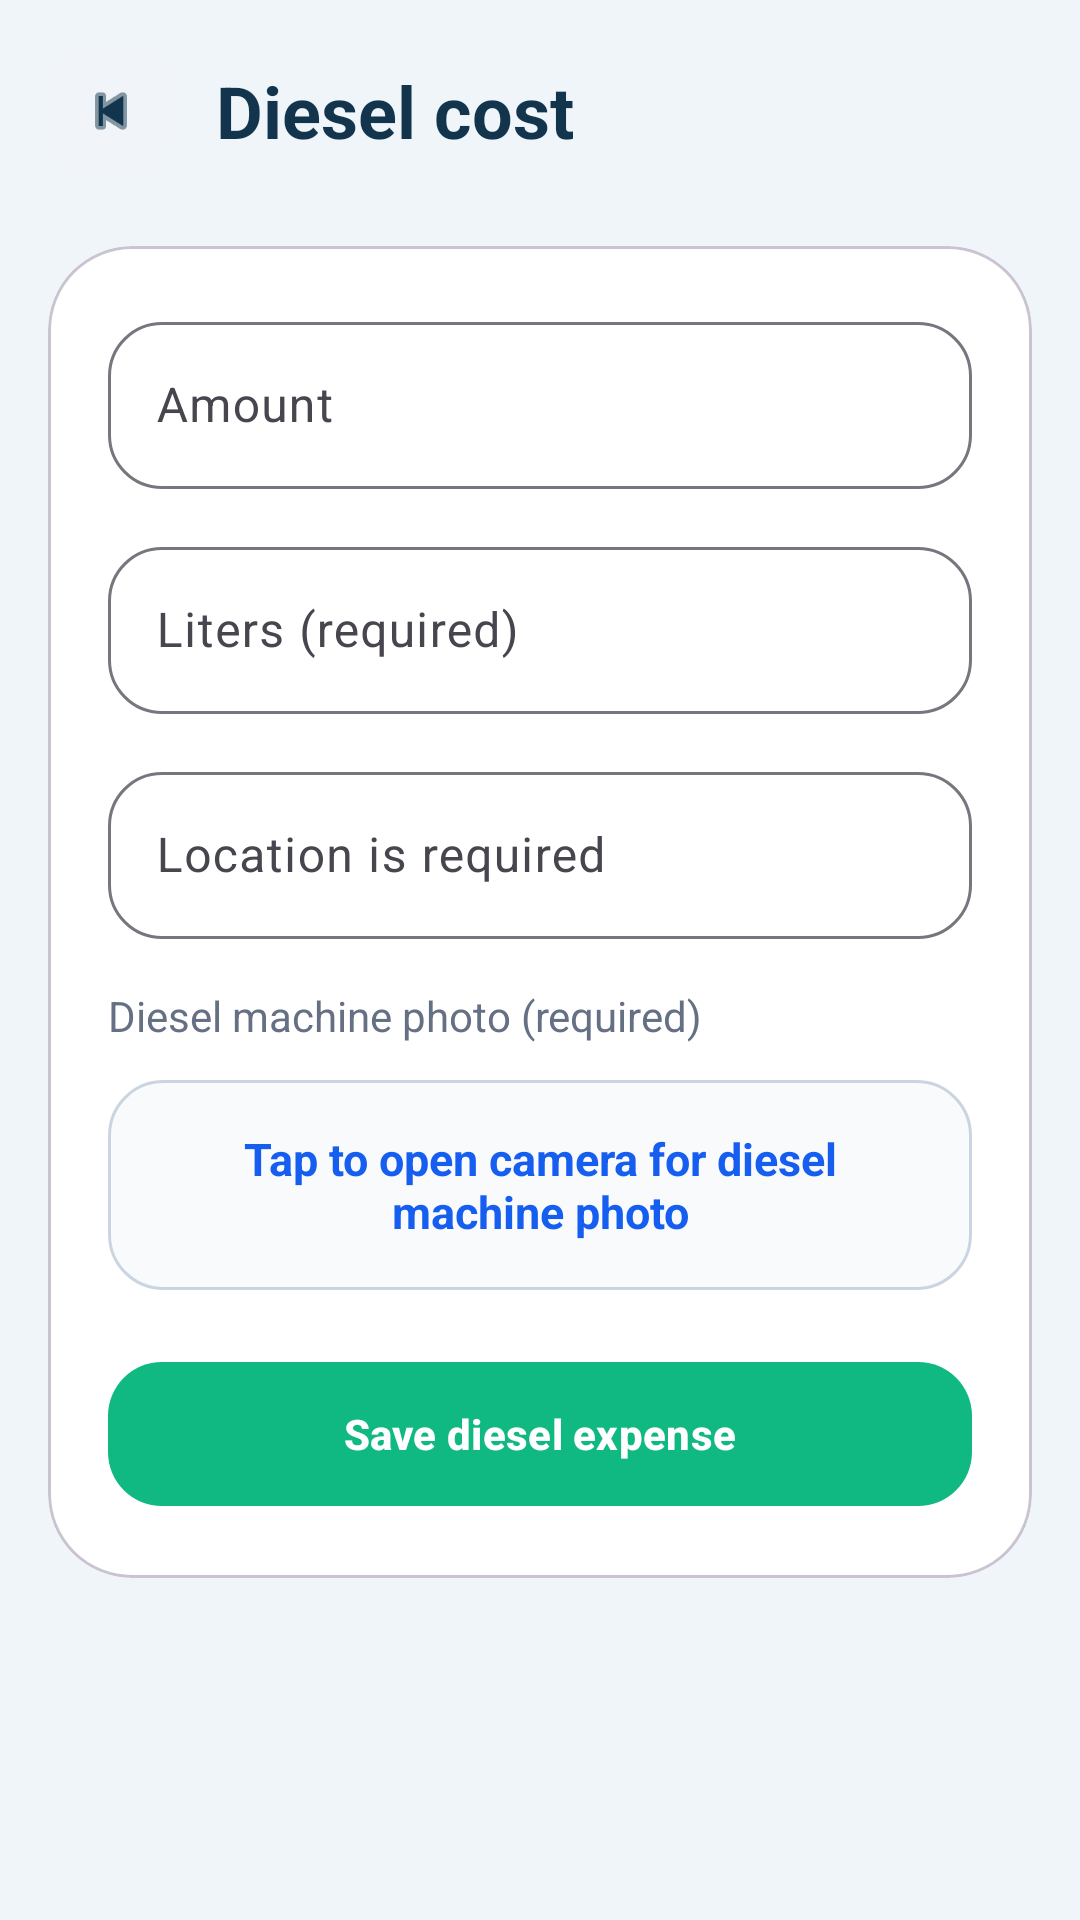

Named icons in this screenshot (1080×1920) and their centers, (x,y):
Back: (111,111)
